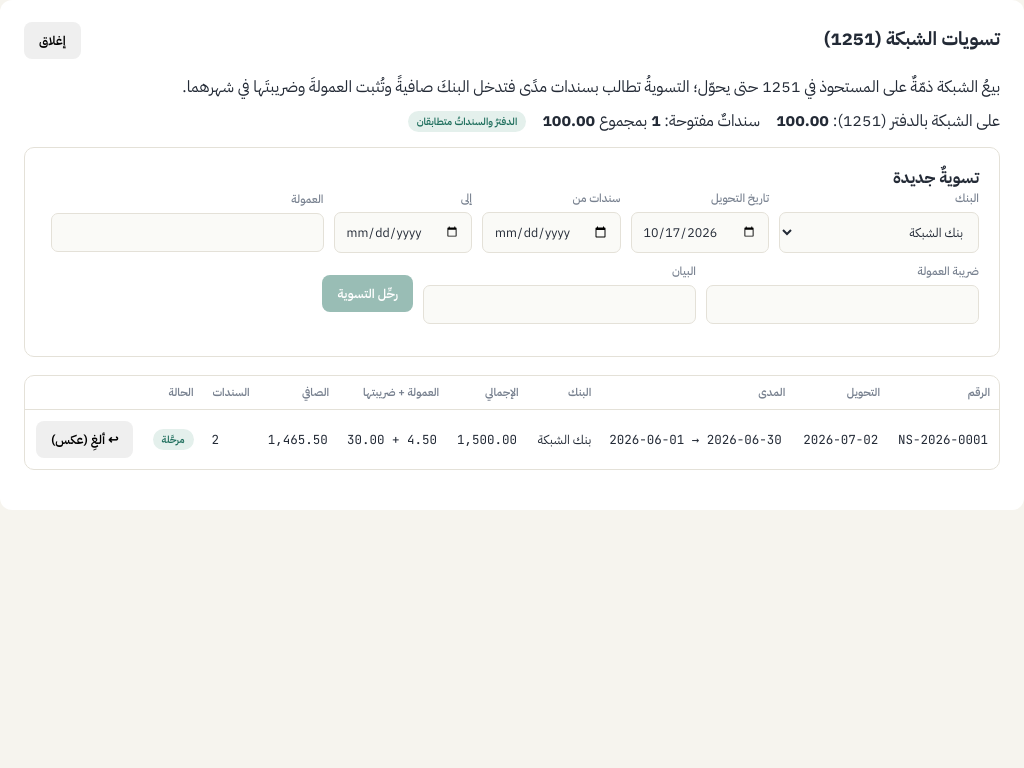
Test: لوحةُ تسويات الشبكة › تعرض رصيدَ 1251 والمفتوحَ كما جاءا، وتقرأ إجماليَّ المدى من الخادم، وترسل التسوية بالعمولة وضريبتها
Check: the text "NS-2026-0001" is shown, box x1=889 y1=410 x2=999 y2=469
Check: the element with test id "network-ledger" shows "100.00", box x1=776 y1=109 x2=829 y2=133
Type "2026-07-01" into the date field labelled "سندات من" at {"x": 551, "y": 232}, box x1=482 y1=212 x2=620 y2=253
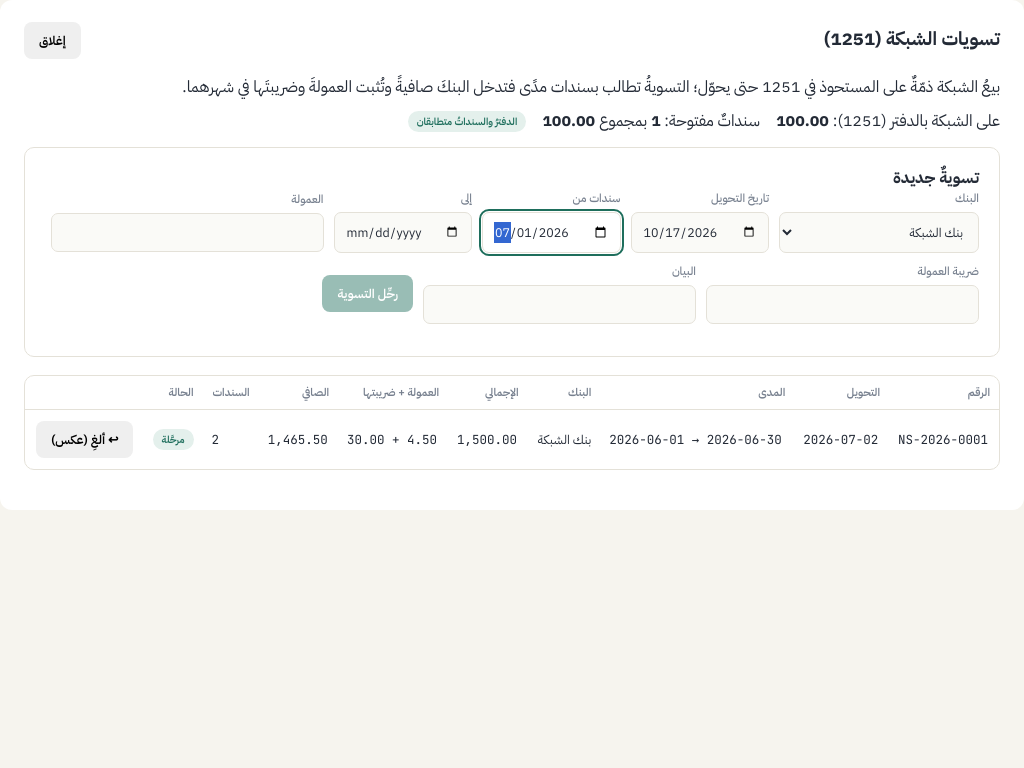
Type "2026-07-31" into the date field labelled "إلى" at {"x": 403, "y": 232}, box x1=334 y1=212 x2=472 y2=253
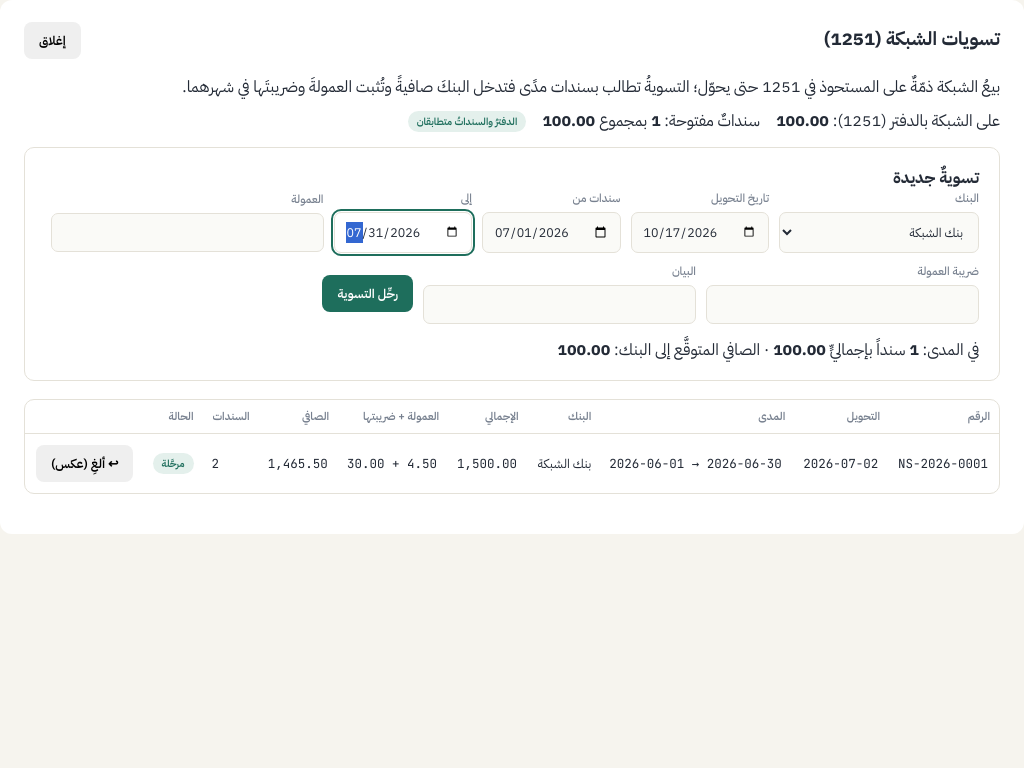
Check: the element with test id "open-hint" shows "100.00", box x1=773 y1=338 x2=826 y2=362
Type "2" into the number field labelled "العمولة" at {"x": 187, "y": 232}, box x1=50 y1=213 x2=324 y2=252
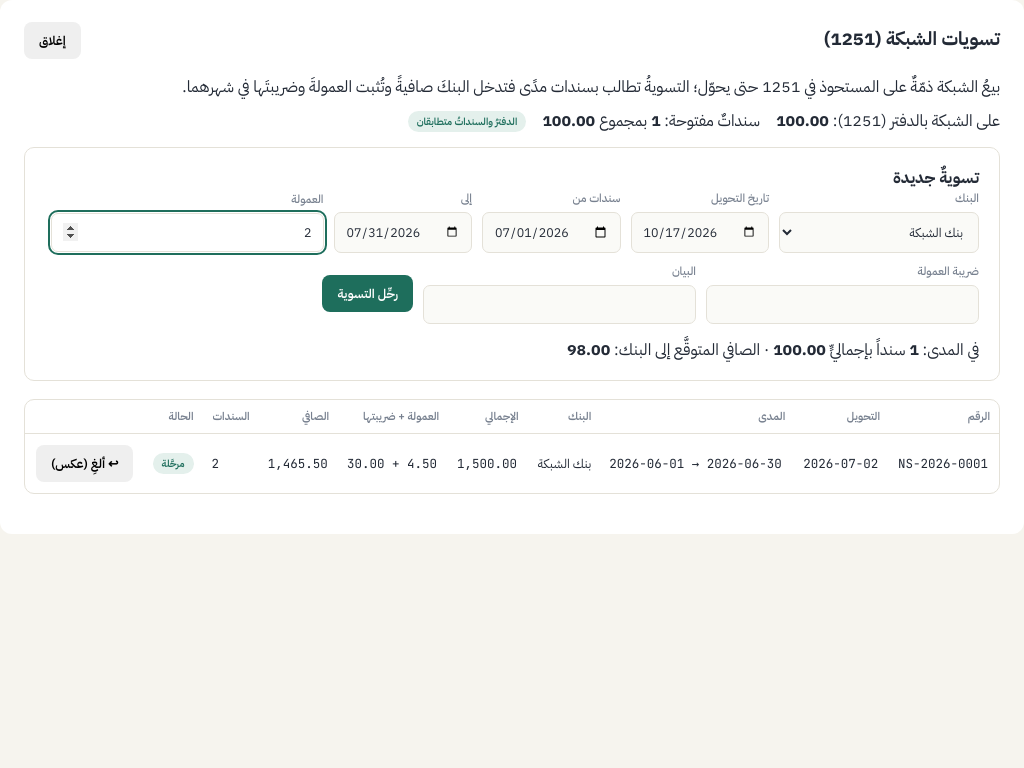
Type "0.3" into the number field labelled "ضريبة العمولة" at {"x": 842, "y": 304}, box x1=706 y1=285 x2=979 y2=324
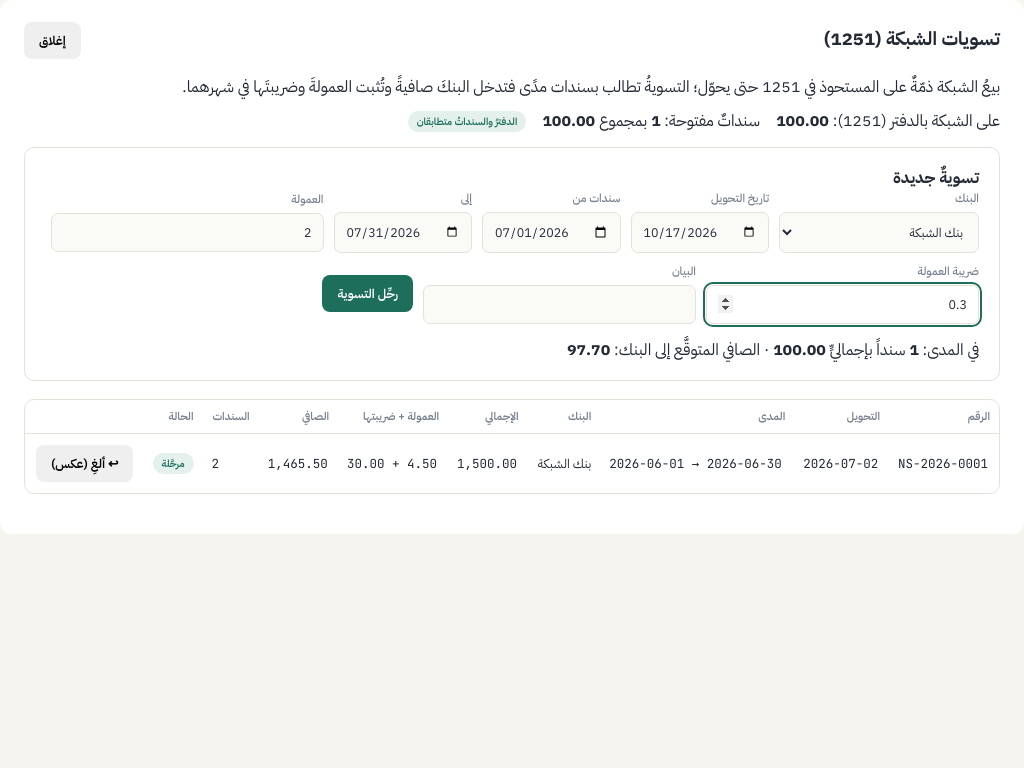
Check: the element with test id "open-hint" shows "97.70", box x1=567 y1=338 x2=610 y2=362
Click the button "رحِّل التسوية" at {"x": 368, "y": 294}, box x1=322 y1=275 x2=413 y2=312
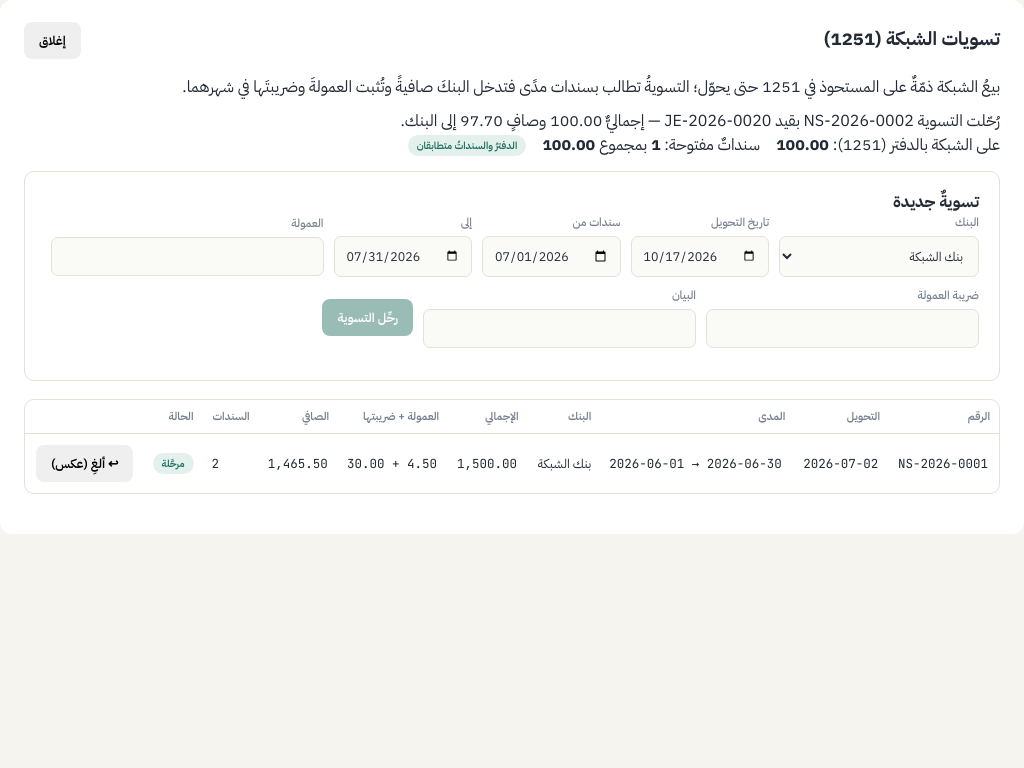
Check: the text with test id "settlement-notice" shows "NS-2026-0002", box x1=400 y1=109 x2=1000 y2=133
